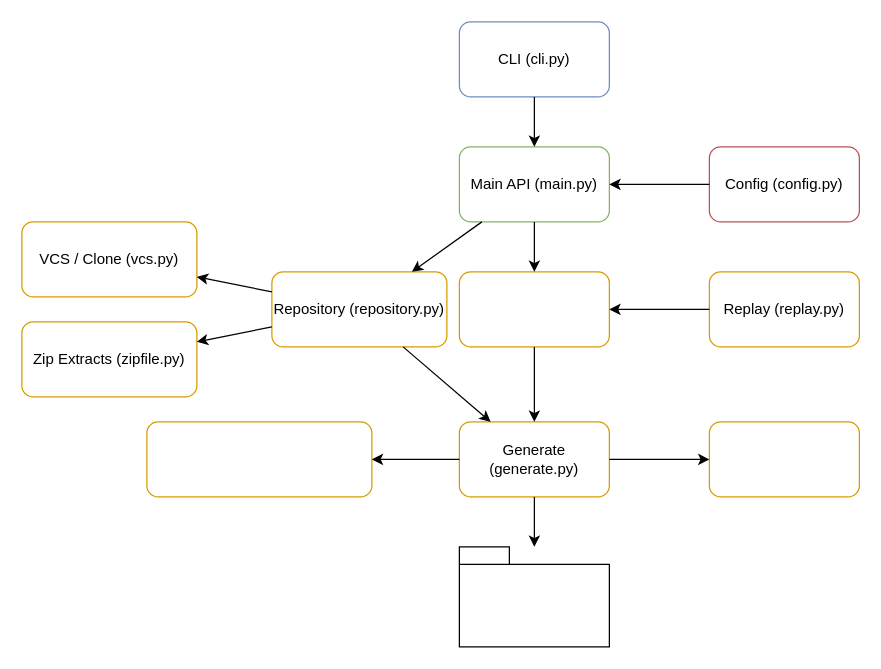
This 881x669 diagram has some shape labels left out. The shapes that lost their labels are listed below. From the top down, each one's centre as x and y in pixels, then its label:
At (533,309): "Prompt (prompt.py)".
At (259,459): "Jinja Env & Exts (environment.py, extensions.py)".
At (783,459): "Hooks (hooks.py)".
At (533,596): "Output Directory".
